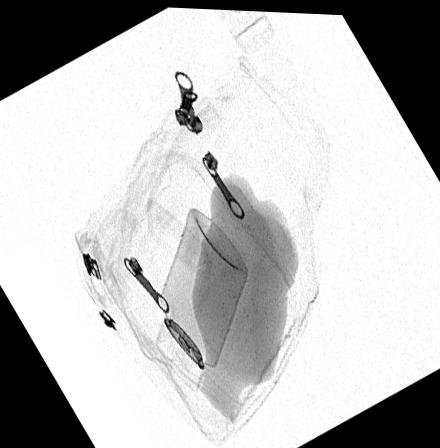Sprayer: (154, 204, 248, 388)
